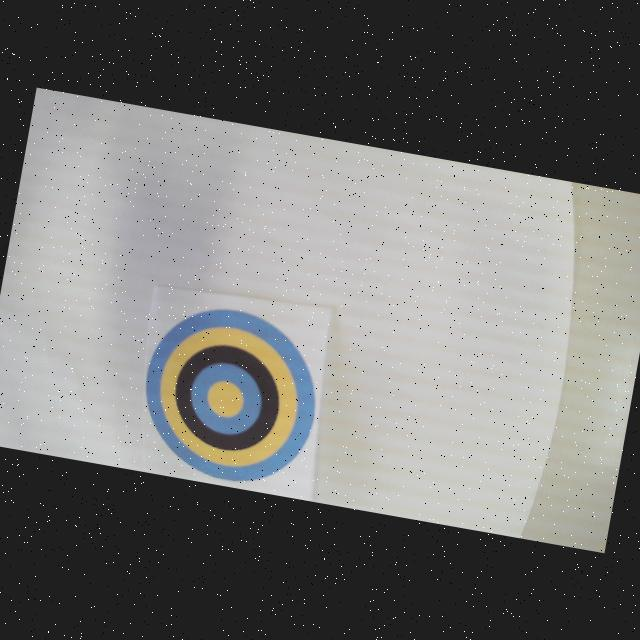COGNITIVE: (130, 296, 330, 494)
